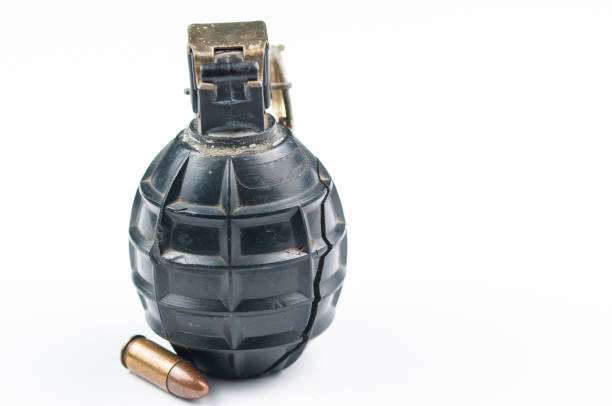e1: (129, 23, 348, 380)
